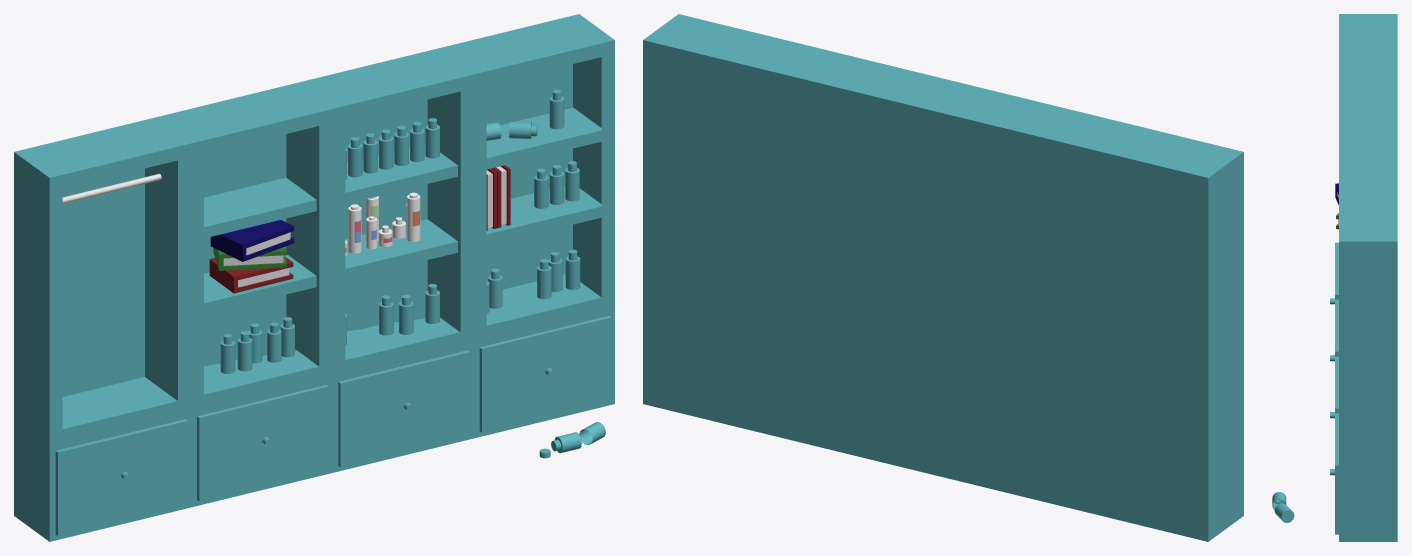
File: Lab_Storage6.fbx
The picture shows the model from 3 angles, left to right: view 1: azimuth 30°, elevation 25°; view 2: azimuth 150°, elevation 25°; view 3: azimuth 270°, elevation 25°; orthographic projection. The views are drawn at different scales.
Parts seen in each view (by area): view 1: Cube; view 2: Cube; view 3: Cube.
Boxes of the visible parts, left/top/right/bottom form: Cube: left=14, top=14, right=614, bottom=541; Cube: left=643, top=14, right=1243, bottom=541; Cube: left=1272, top=14, right=1397, bottom=541.
Bounding box in the file's own units: 1831 × 1127 × 426.
